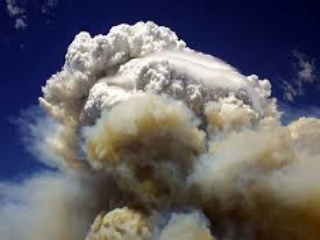smoke: (46, 27, 294, 228)
